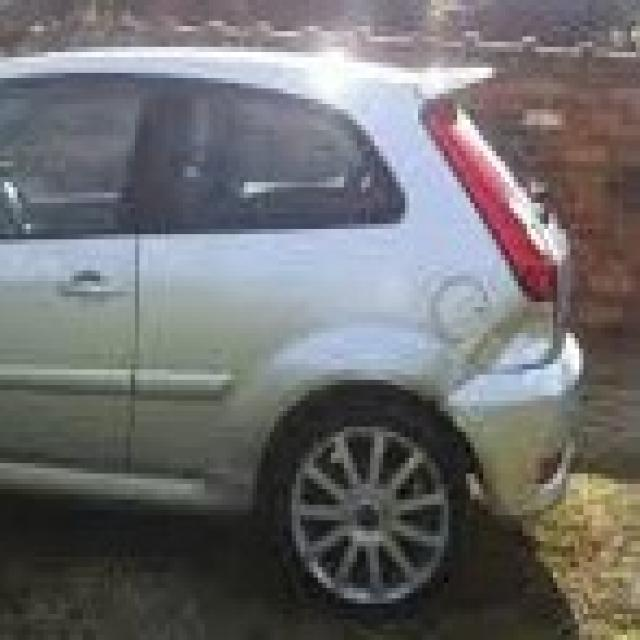moderate: (463, 280, 614, 421)
